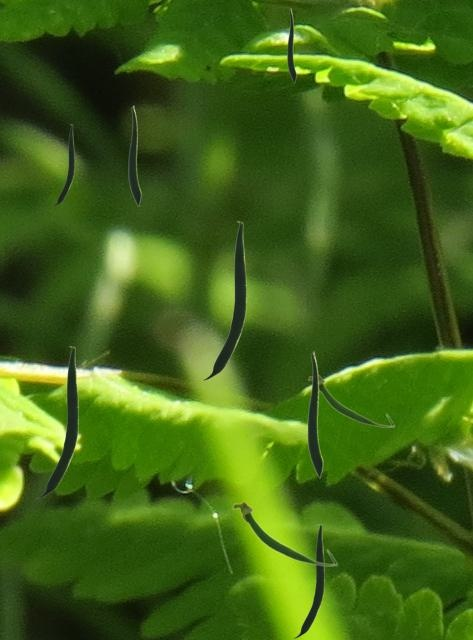french_bean: (231, 500, 337, 566), (202, 221, 245, 379), (36, 346, 77, 497), (307, 374, 394, 427), (293, 524, 323, 637), (307, 351, 322, 477), (53, 124, 73, 205), (128, 105, 140, 205), (287, 8, 295, 82)
